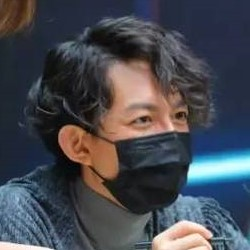mask: (72, 121, 195, 215)
